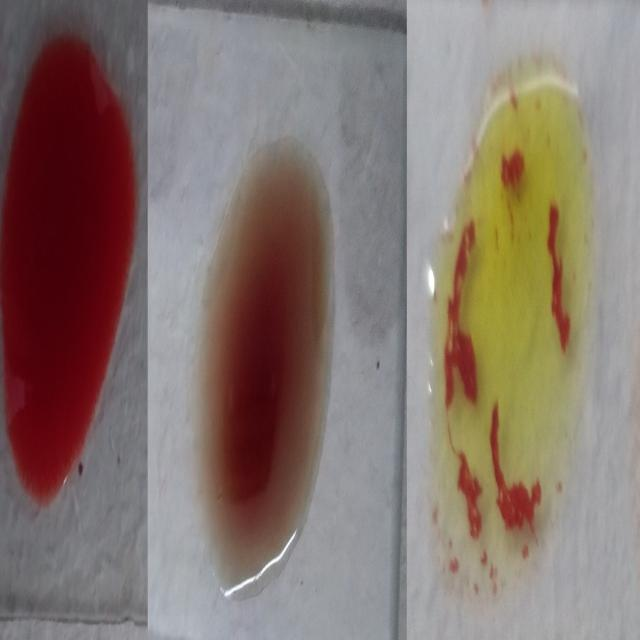B: (427, 62, 590, 618)
